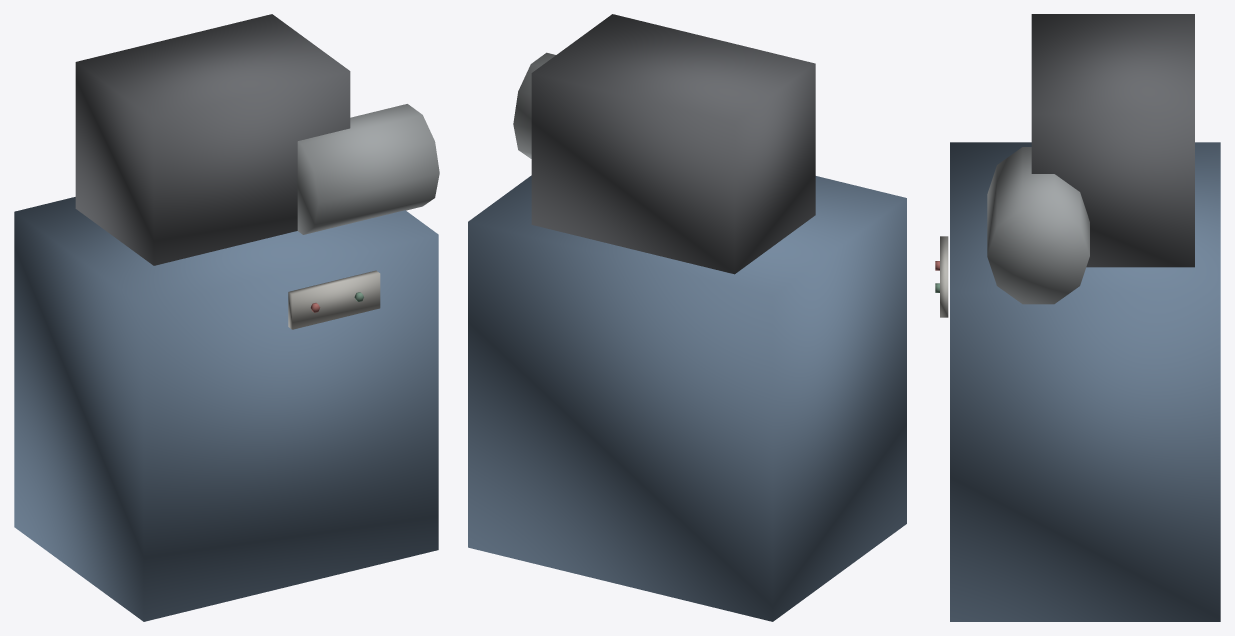
The model's file is library_cart__compact.glb.
3 views of the same model, side by side, from view 1: azimuth 30°, elevation 25°; view 2: azimuth 150°, elevation 25°; view 3: azimuth 270°, elevation 25° (orthographic). The views are drawn at different scales.
Visible parts, largest first — view 1: world; view 2: world; view 3: world.
Boxes of the visible parts, <box> form: world: <box>14,14,439,621</box>; world: <box>468,14,906,621</box>; world: <box>935,14,1220,621</box>.
Size of the model in its own units: 0.6972 by 0.9811 by 0.5255.
